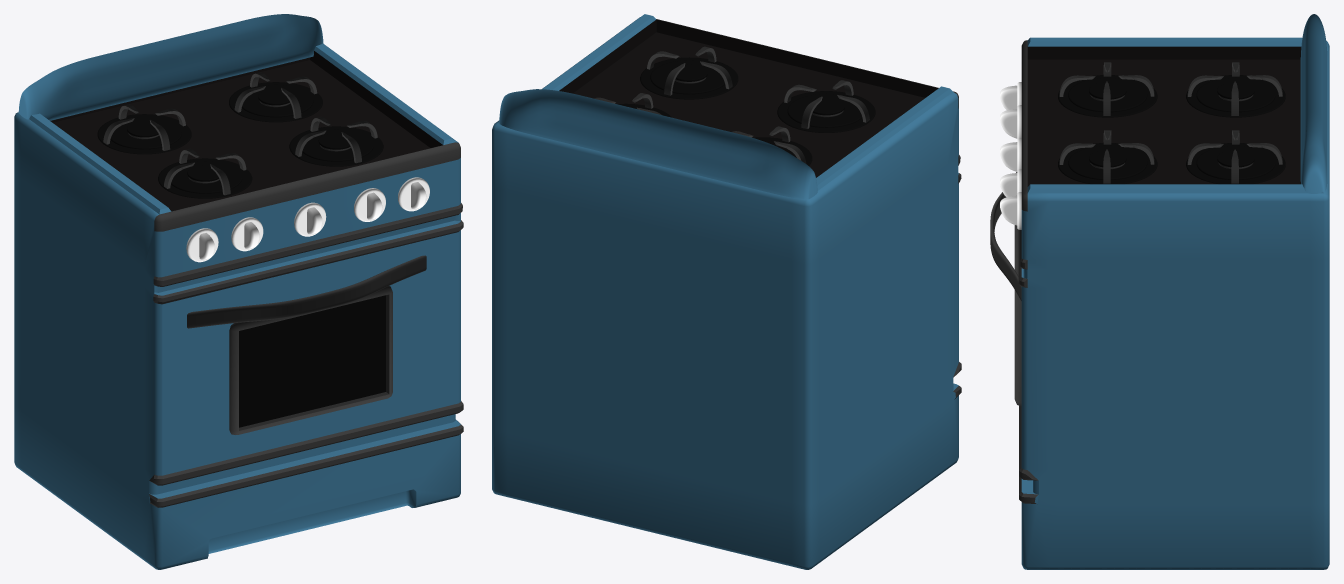
The model's file is Stove_1301.obj.
3 views of the same model, side by side, from view 1: azimuth 30°, elevation 25°; view 2: azimuth 150°, elevation 25°; view 3: azimuth 270°, elevation 25° (orthographic). The views are drawn at different scales.
Parts seen in each view (by area): view 1: ChamferBox003; view 2: ChamferBox003; view 3: ChamferBox003.
Part boxes in pixels (box(x1,y1,x2,y2)): ChamferBox003: box(14, 14, 463, 569); ChamferBox003: box(492, 14, 961, 569); ChamferBox003: box(990, 14, 1329, 569).
Bounding box in the file's own units: 26.37 × 32.25 × 23.62.
